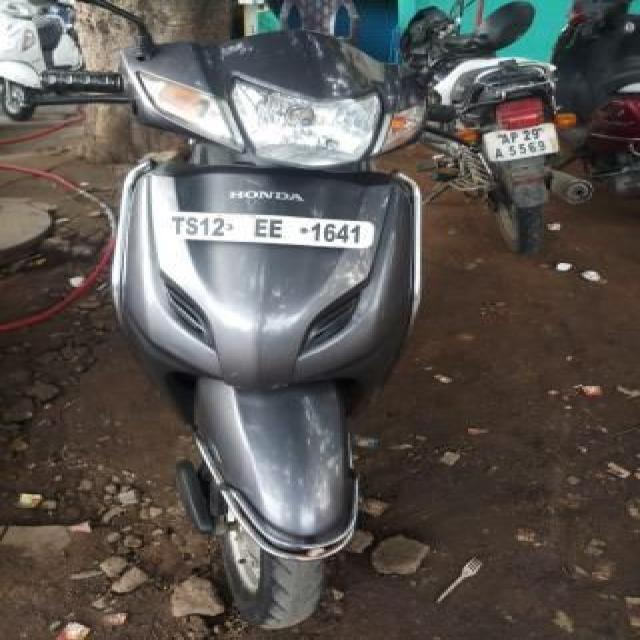license_plate: (164, 211, 374, 248)
